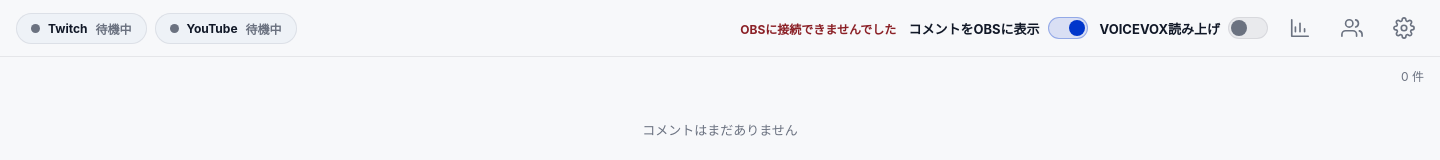
Test case: 045c 自動反映は表示に従う（E2E 回帰） › 接続失敗はツールバーに赤字で出す（OBS 未起動などが押した画面で分かる）
The image size is (1440, 160).
Click the switch named "コメントをOBSに表示".
click(1068, 28)  # box [1048,17,1088,39]
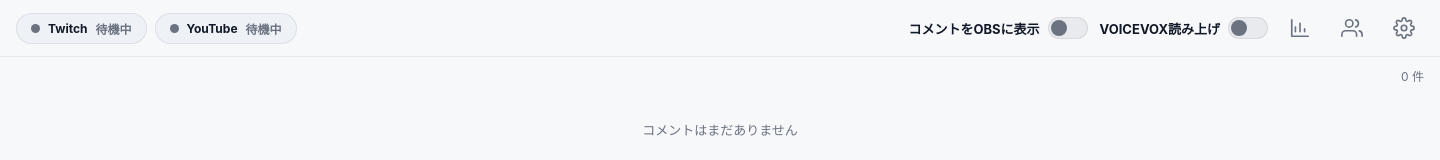
Now the text "OBSに接続できませんでした" is gone
